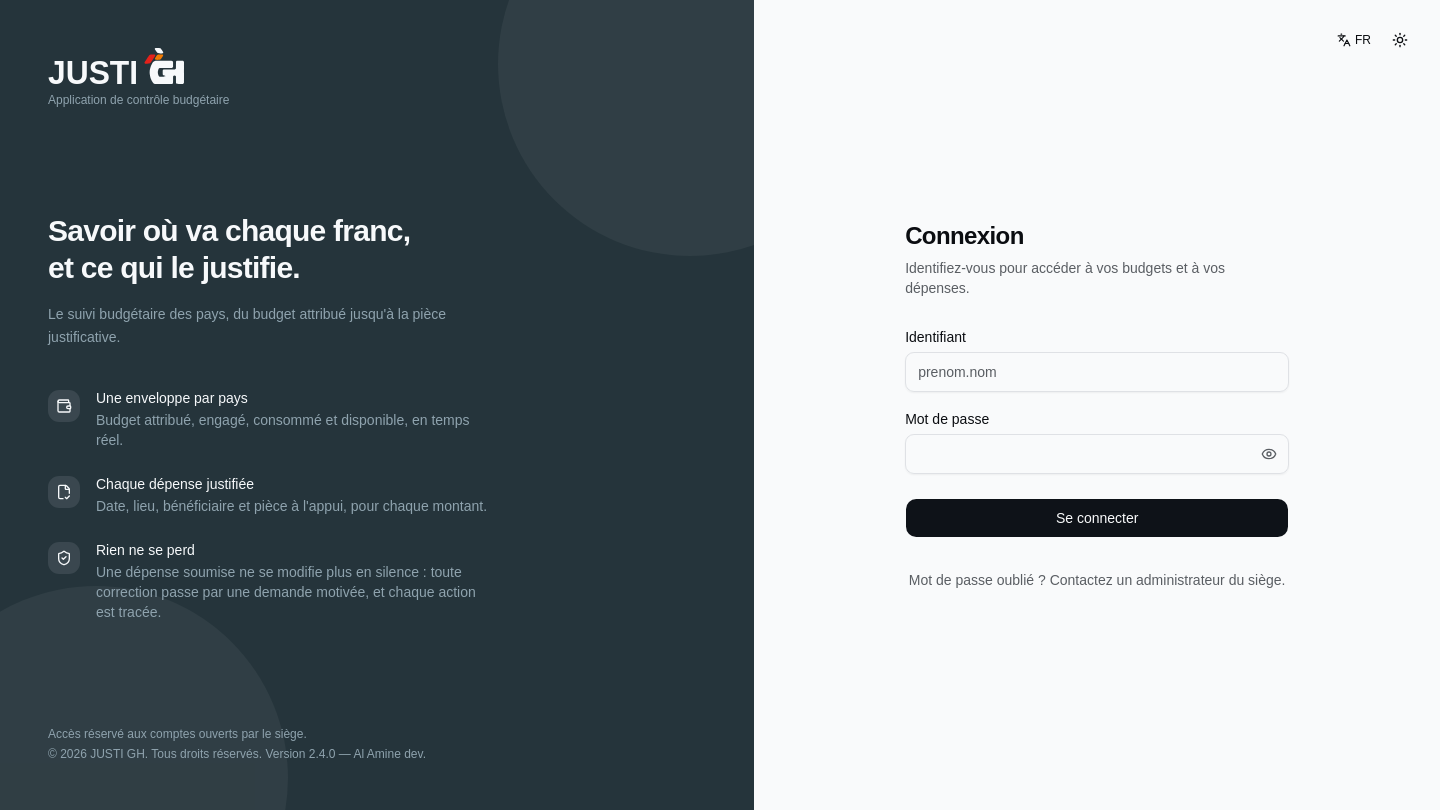
Test case: AuthProvider — connexion d'un compte sans profil › affiche le motif du serveur sur l'écran de connexion et ne garde pas la session
La page de connexion est chargée à la demande : on l'attend.
Step 1. Type "sans.profil" into the field labelled "Identifiant" → (1097, 372), box 905,352 -> 1289,392
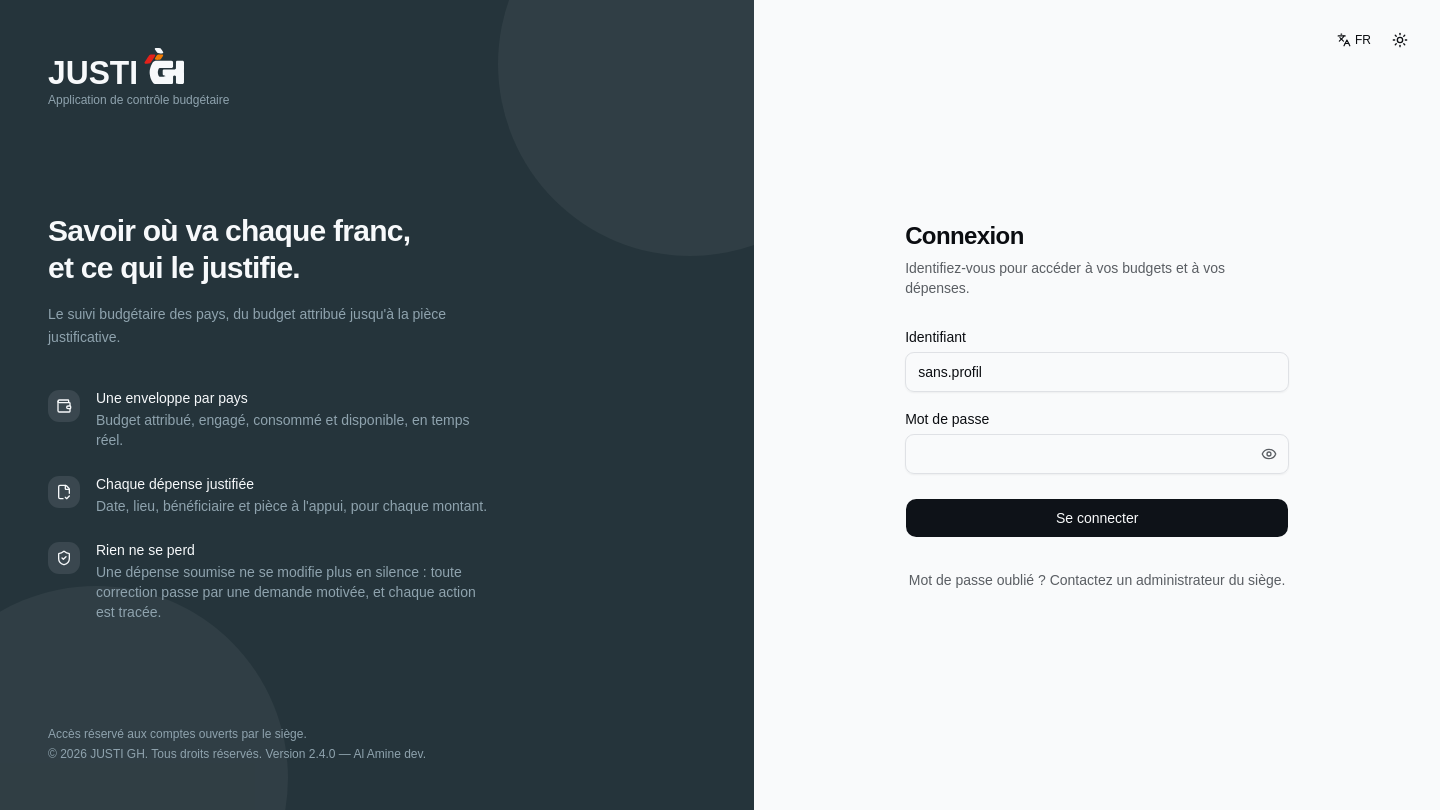
Step 2. Type "secret" into the password field labelled "Mot de passe" → (1097, 454), box 905,434 -> 1289,474
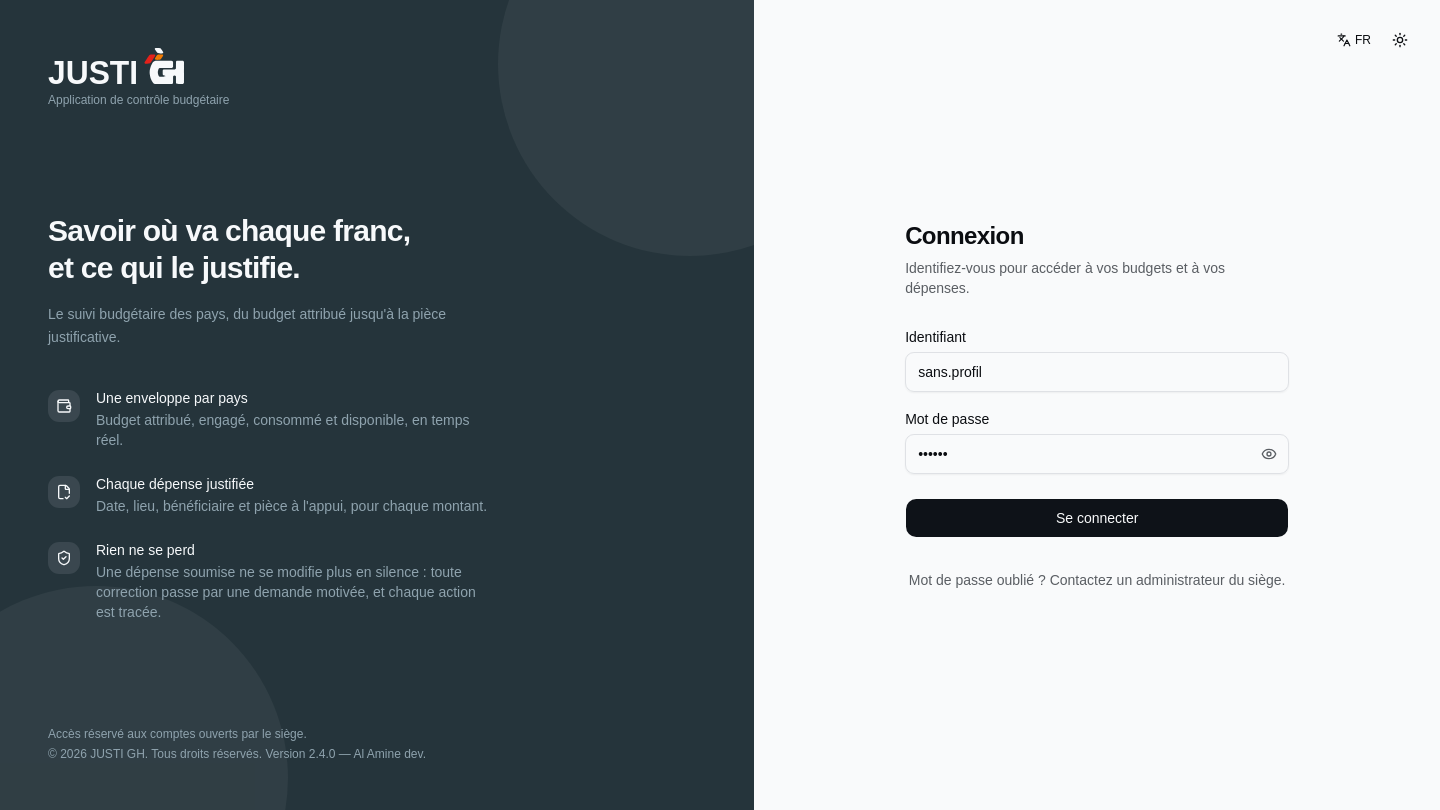
Step 3. Click the button "Se connecter" → (1097, 518), box 905,498 -> 1289,538
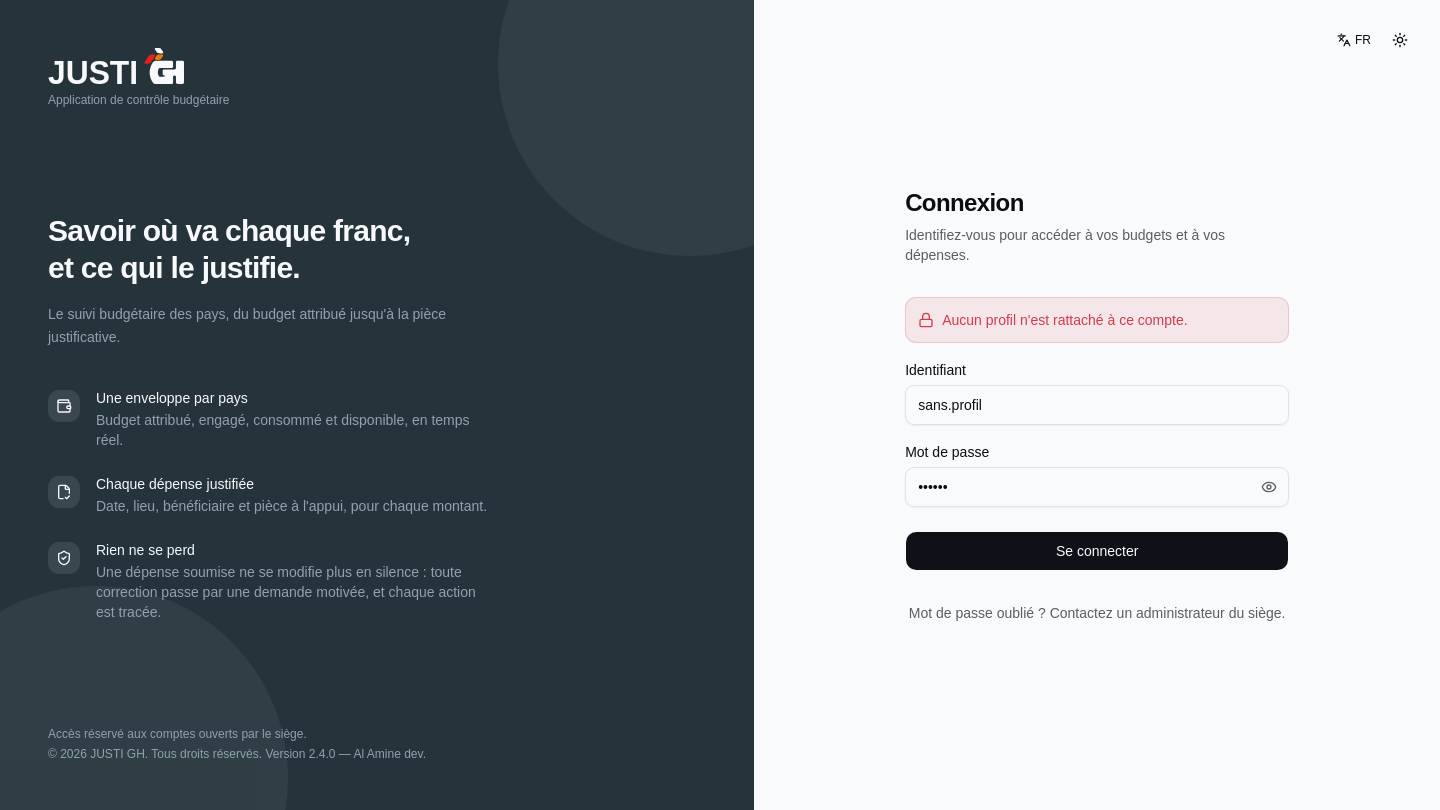
expect the heading "Connexion" is shown: met, box 905,189 -> 1024,216
expect the message reads "Aucun profil n'est rattaché à ce compte.": met, box 942,312 -> 1188,328
